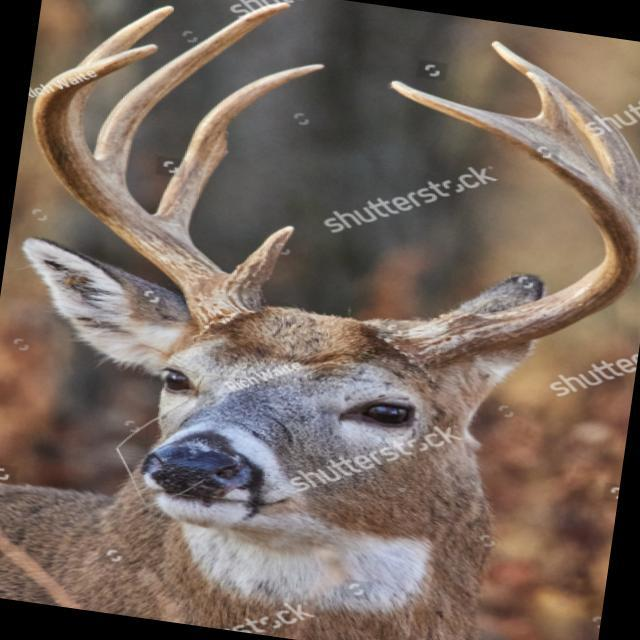E1: (526, 70, 585, 150)
L-F: (375, 80, 640, 372)
R-F: (31, 43, 260, 340)
R-G1: (230, 225, 294, 289)
R-G2: (155, 64, 325, 236)
R-G3: (93, 1, 292, 186)
